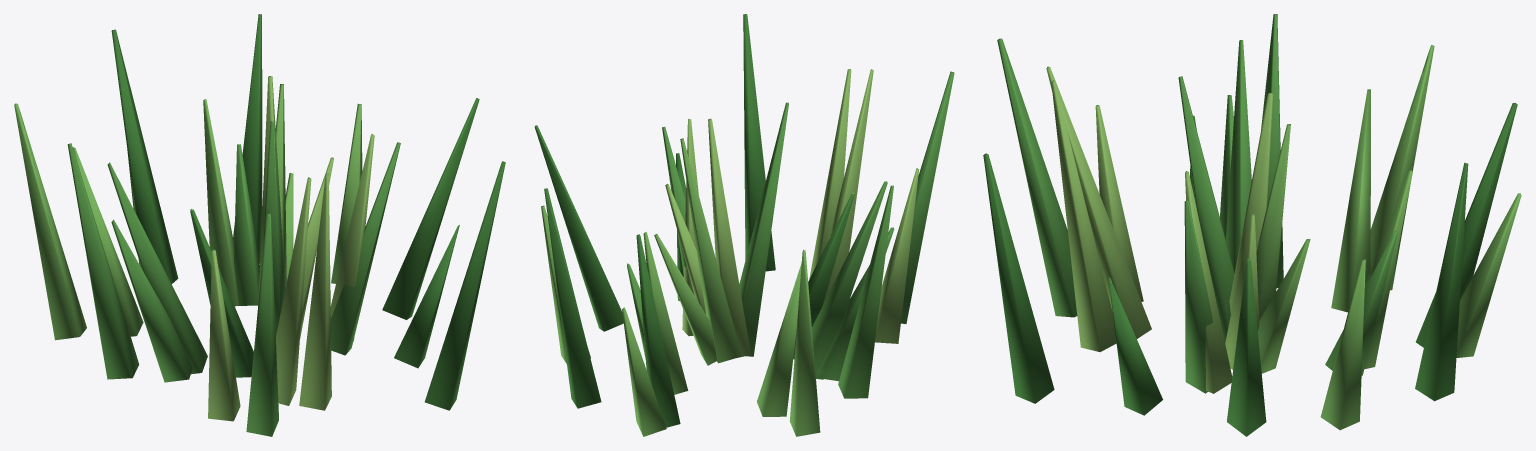
Rendered from season_grass.glb.
3 renders of one model, left to right at view 1: azimuth 30°, elevation 25°; view 2: azimuth 150°, elevation 25°; view 3: azimuth 270°, elevation 25°, orthographic. The views are drawn at different scales.
Visible parts, largest first — view 1: grass; view 2: grass; view 3: grass.
Part boxes in pixels (bbox=[...]): grass: bbox=[14, 14, 505, 436]; grass: bbox=[534, 14, 954, 436]; grass: bbox=[983, 14, 1521, 436].
Bounding box in the file's own units: 0.7299 × 0.4627 × 0.8157.
1 material, 1 textured.
